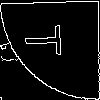T: (25, 24, 71, 56)
